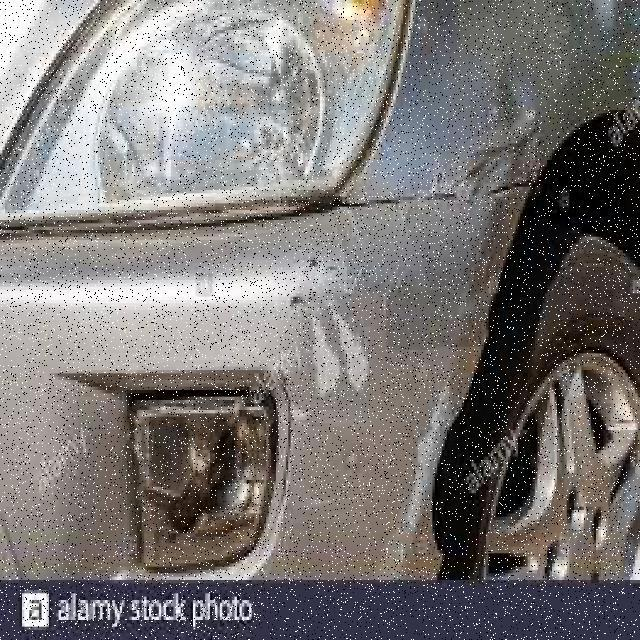bumper: (354, 0, 638, 374)
hood: (0, 207, 545, 591)
